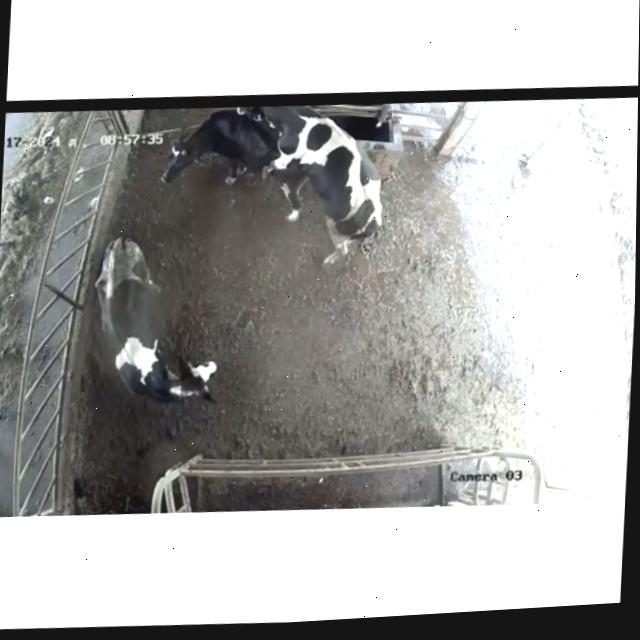lay: (80, 226, 245, 427)
ride: (230, 94, 396, 276)
stand: (157, 103, 278, 215)
